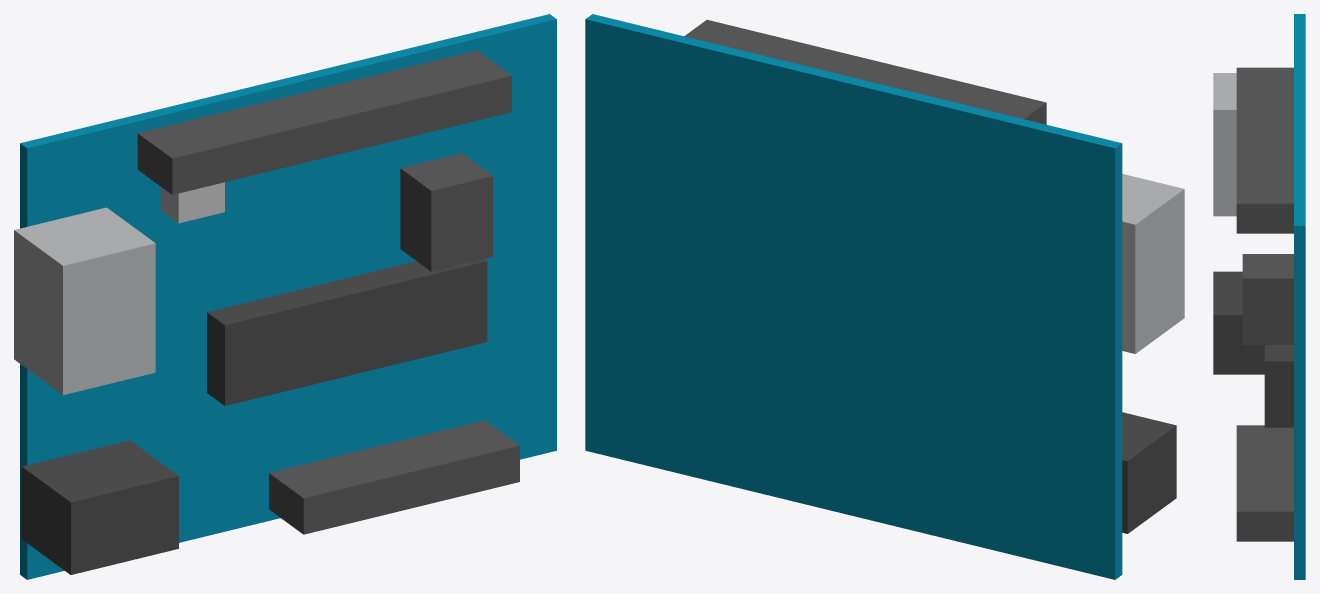
File: arduino-uno-r3.gltf
3 views of the same model, side by side, from view 1: azimuth 30°, elevation 25°; view 2: azimuth 150°, elevation 25°; view 3: azimuth 270°, elevation 25° (orthographic). The views are drawn at different scales.
Parts seen in each view (by area): view 1: pcb, atmega328p, digital_header, usb_b, barrel_jack, power_analog_header, icsp, reset_button; view 2: pcb, usb_b, digital_header, barrel_jack; view 3: digital_header, pcb, power_analog_header, icsp, barrel_jack, usb_b, atmega328p.
Part boxes in pixels (x1=…): pcb: x1=20, y1=14, x2=556, y2=579; atmega328p: x1=207, y1=259, x2=487, y2=405; digital_header: x1=137, y1=50, x2=511, y2=194; usb_b: x1=14, y1=207, x2=155, y2=394; barrel_jack: x1=21, y1=440, x2=178, y2=574; power_analog_header: x1=269, y1=420, x2=519, y2=534; icsp: x1=400, y1=153, x2=492, y2=271; reset_button: x1=160, y1=182, x2=224, y2=223; pcb: x1=585, y1=14, x2=1122, y2=579; usb_b: x1=1122, y1=174, x2=1184, y2=353; digital_header: x1=684, y1=19, x2=1046, y2=124; barrel_jack: x1=1122, y1=412, x2=1176, y2=533; digital_header: x1=1236, y1=67, x2=1293, y2=233; pcb: x1=1294, y1=14, x2=1305, y2=579; power_analog_header: x1=1236, y1=425, x2=1293, y2=541; icsp: x1=1242, y1=254, x2=1293, y2=344; barrel_jack: x1=1213, y1=271, x2=1264, y2=374; usb_b: x1=1213, y1=73, x2=1236, y2=216; atmega328p: x1=1264, y1=345, x2=1293, y2=427.
Bounding box in the file's own units: 70.3 × 53.4 × 12.6.
